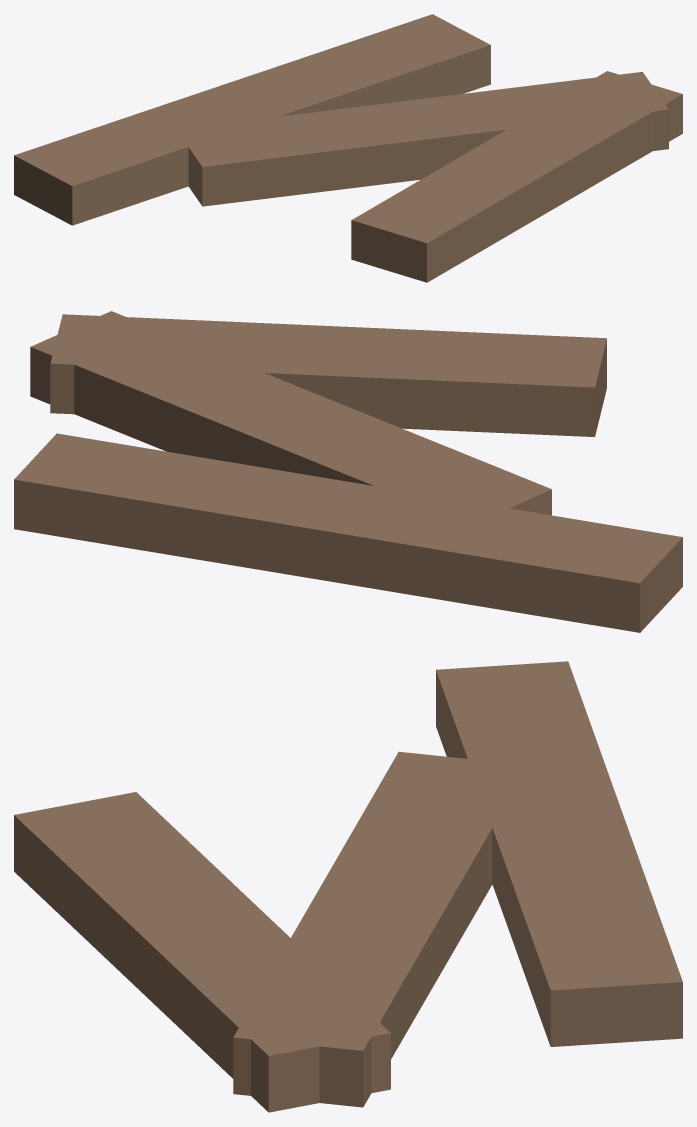
The model's file is wrecked_planks.glb.
3 views of the same model, one above another, from view 1: azimuth 30°, elevation 25°; view 2: azimuth 150°, elevation 25°; view 3: azimuth 270°, elevation 25° (orthographic). The views are drawn at different scales.
Parts seen in each view (by area): view 1: wrecked_planks_0; view 2: wrecked_planks_0; view 3: wrecked_planks_0.
Part boxes in pixels (box(x1,y1,x2,y2)): wrecked_planks_0: box(14, 14, 682, 282); wrecked_planks_0: box(14, 311, 682, 632); wrecked_planks_0: box(14, 661, 682, 1112).
Size of the model in its own units: 1.05 by 0.07 by 0.7496.
